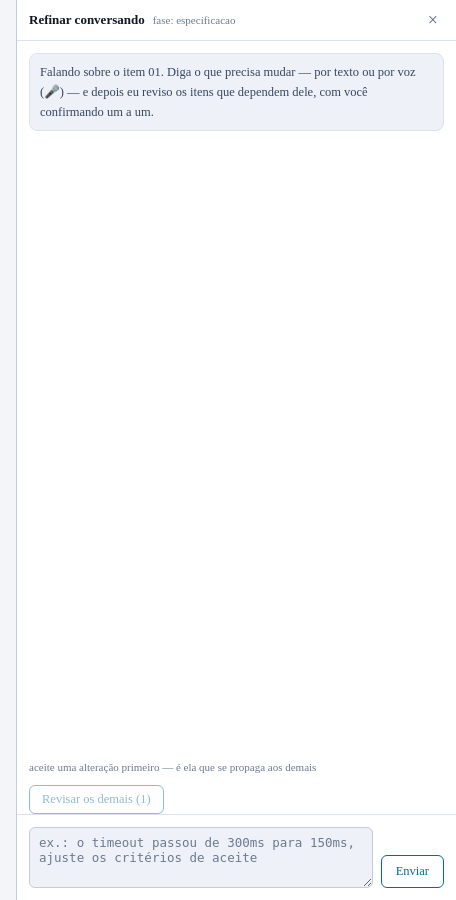
Test case: ConversaEspecificacao (SPEC-27 Fase 2 — alterar item e revisar os demais) › manda os campos COM o valor atual — sem o 'antes' o modelo reescreve em vez de ajustar
The image size is (456, 900).
Replace the text in the text box named "Descreva o que você quer" with "o timeout passou para 150ms" at {"x": 201, "y": 858}, box [29,827,373,888]
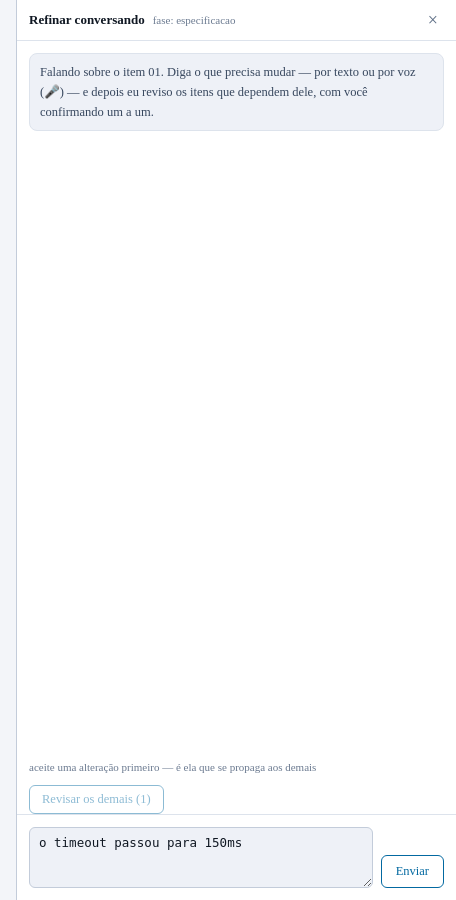
Click the button "Enviar".
click(412, 872)  # box [381,855,444,888]
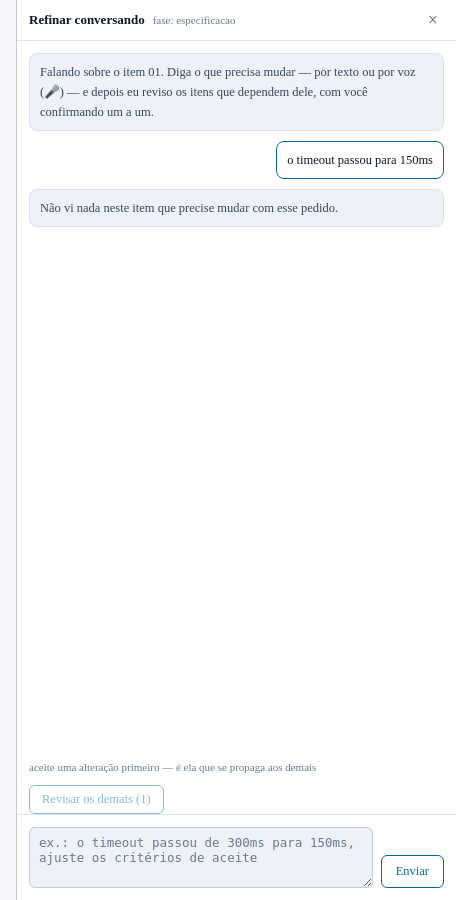
expect the text "o timeout passou para 150ms" is shown: met, box [287,150,433,170]
